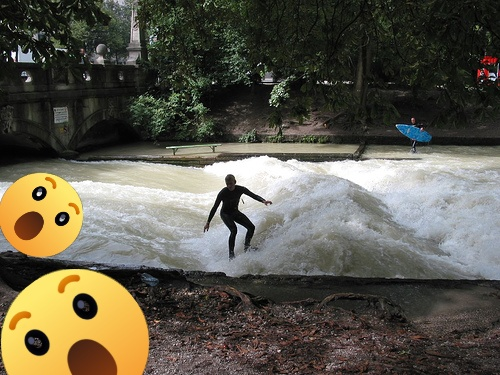wow: (1, 269, 149, 375), (0, 173, 83, 257)
